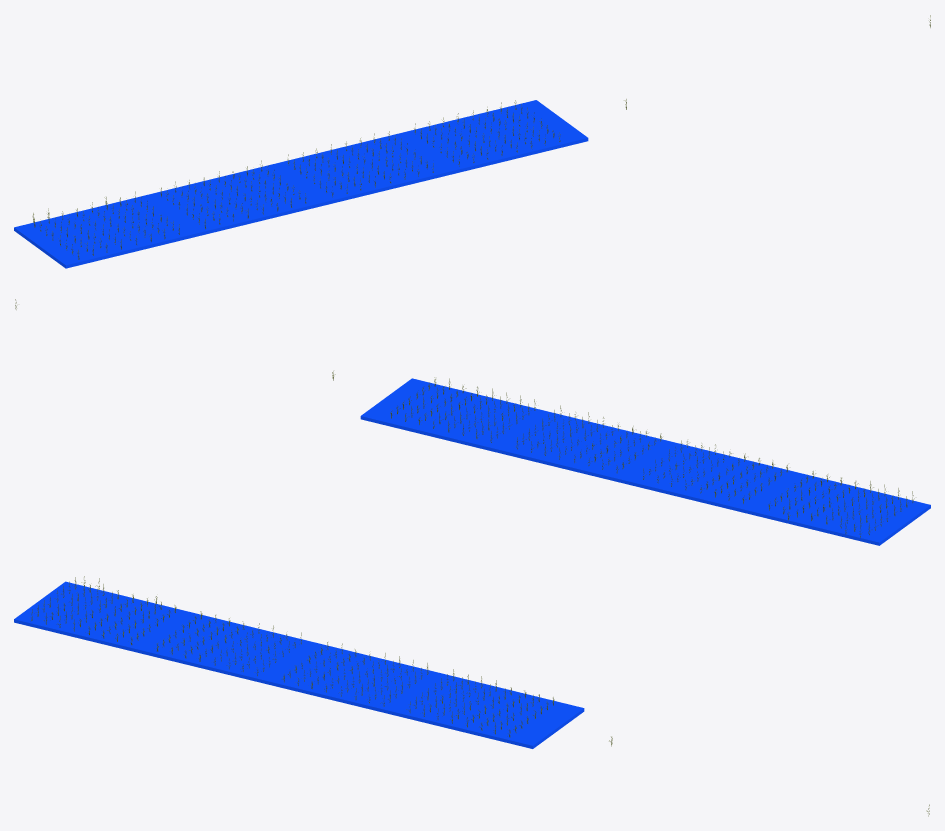
The picture shows the model from 3 angles, top to bottom: view 1: azimuth 30°, elevation 25°; view 2: azimuth 150°, elevation 25°; view 3: azimuth 330°, elevation 25°; orthographic projection.
Visible parts, largest first — view 1: 立方体.019; view 2: 立方体.019; view 3: 立方体.019.
Boxes of the visible parts, x1,y1,x2,y2 form: 立方体.019: (14,100,588,268); 立方体.019: (360,378,930,545); 立方体.019: (14,581,584,748).
Size of the model in its own units: 63.61 by 1.06 by 6.54.
4 materials, 3 textured.
